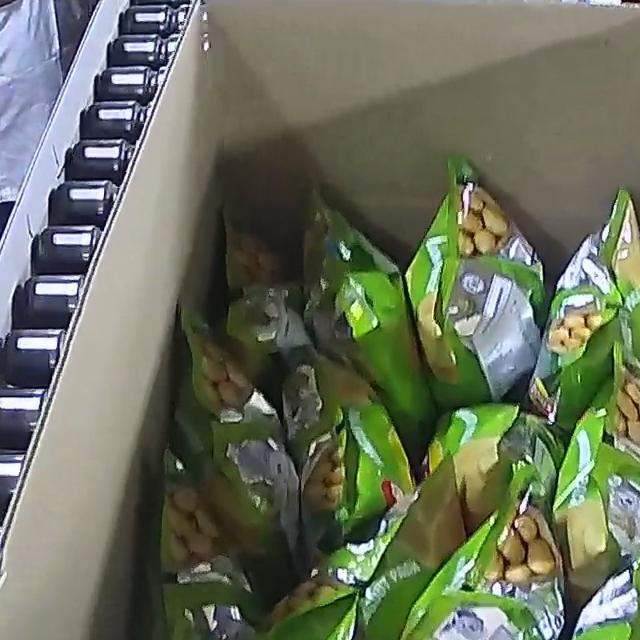yogurt: (145, 152, 640, 640)
